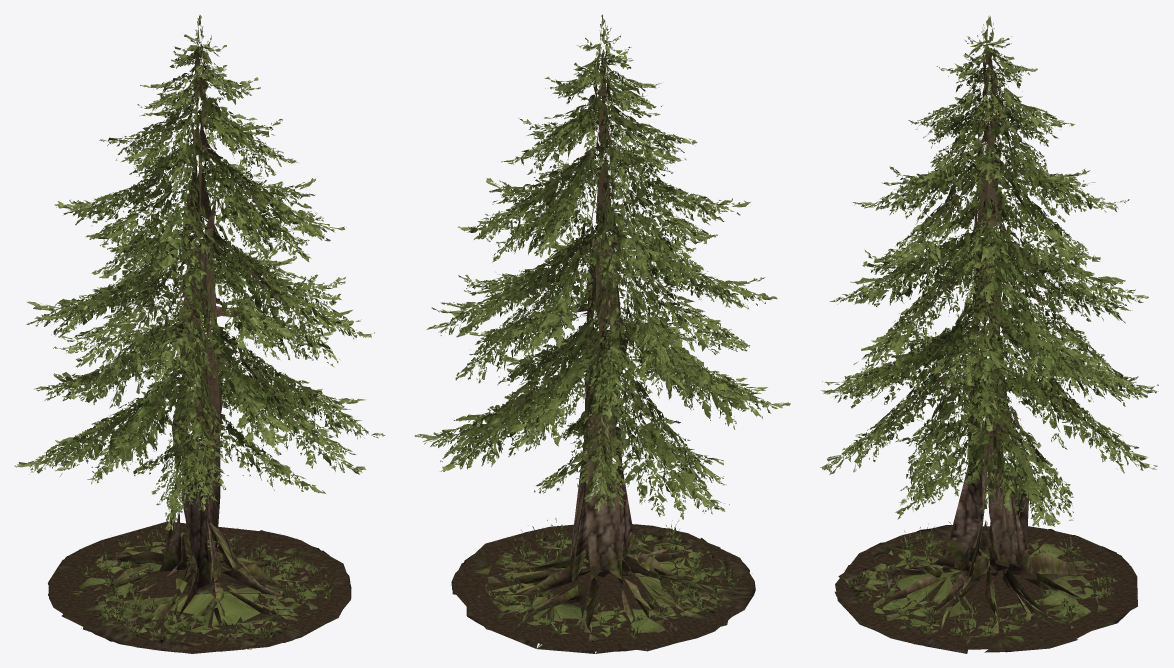
File: tree_sentinel_near.glb
3 views of the same model, side by side, from view 1: azimuth 30°, elevation 25°; view 2: azimuth 150°, elevation 25°; view 3: azimuth 270°, elevation 25° (orthographic).
Visible parts, largest first — view 1: Mesh_0; view 2: Mesh_0; view 3: Mesh_0.
Boxes of the visible parts, x1,y1,x2,y2 form: Mesh_0: [14, 14, 385, 653]; Mesh_0: [414, 14, 790, 653]; Mesh_0: [820, 15, 1158, 653].
Size of the model in its own units: 1.07 by 1.92 by 1.01.
Materials: 1 (1 with a texture image).
